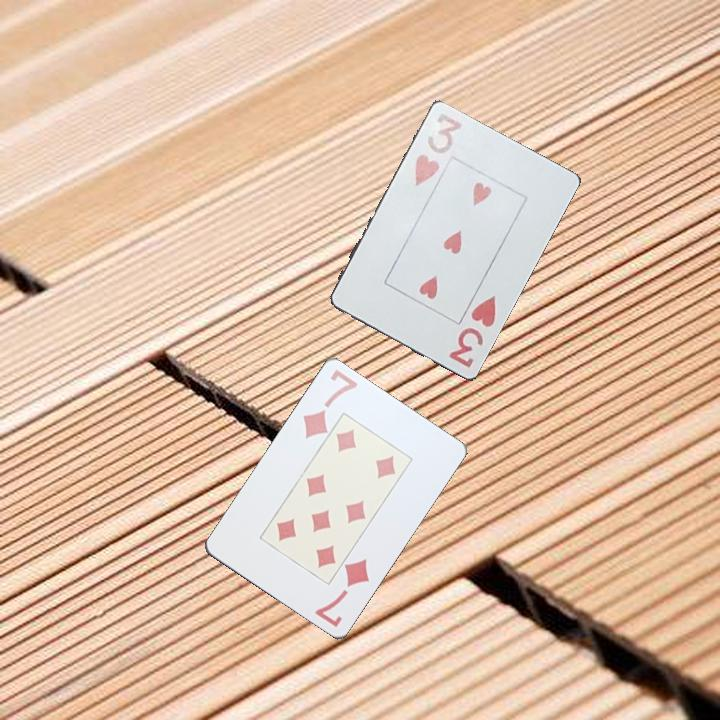3h: (409, 109, 465, 188), (445, 291, 499, 371)
7d: (311, 555, 373, 631), (299, 366, 360, 443)
